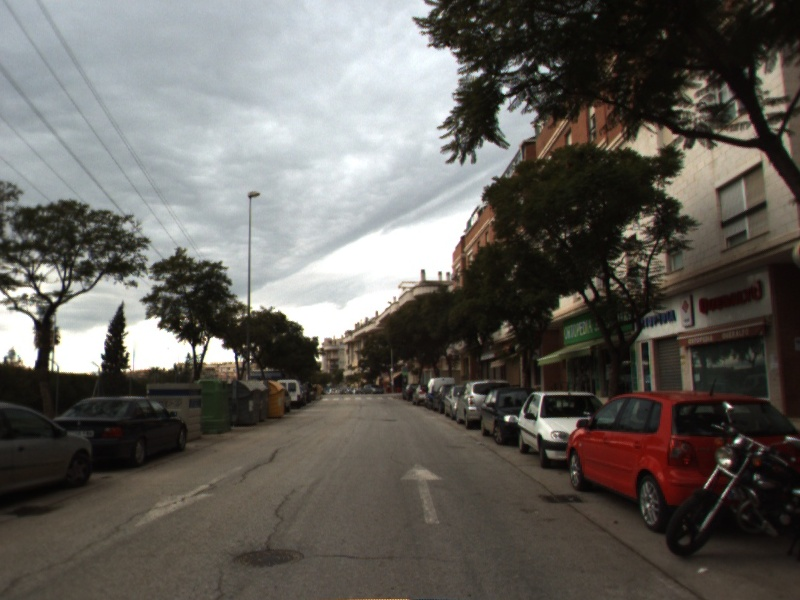STRAIGHT: (397, 461, 447, 526)
